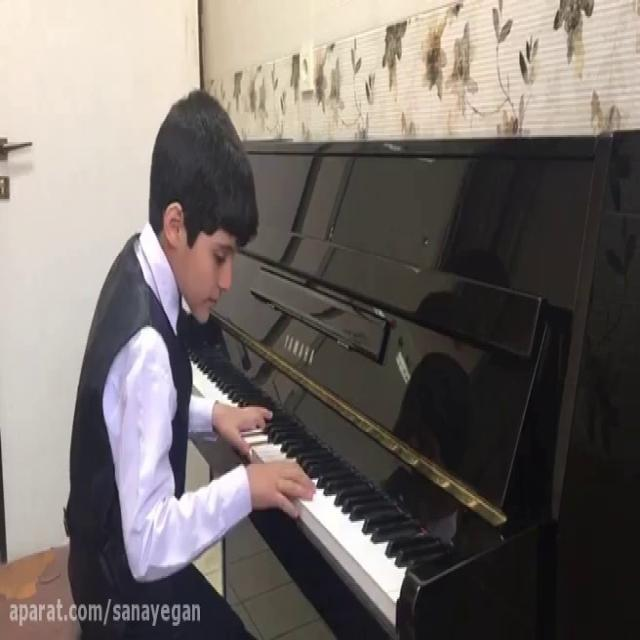Piano: (184, 334, 466, 610)
